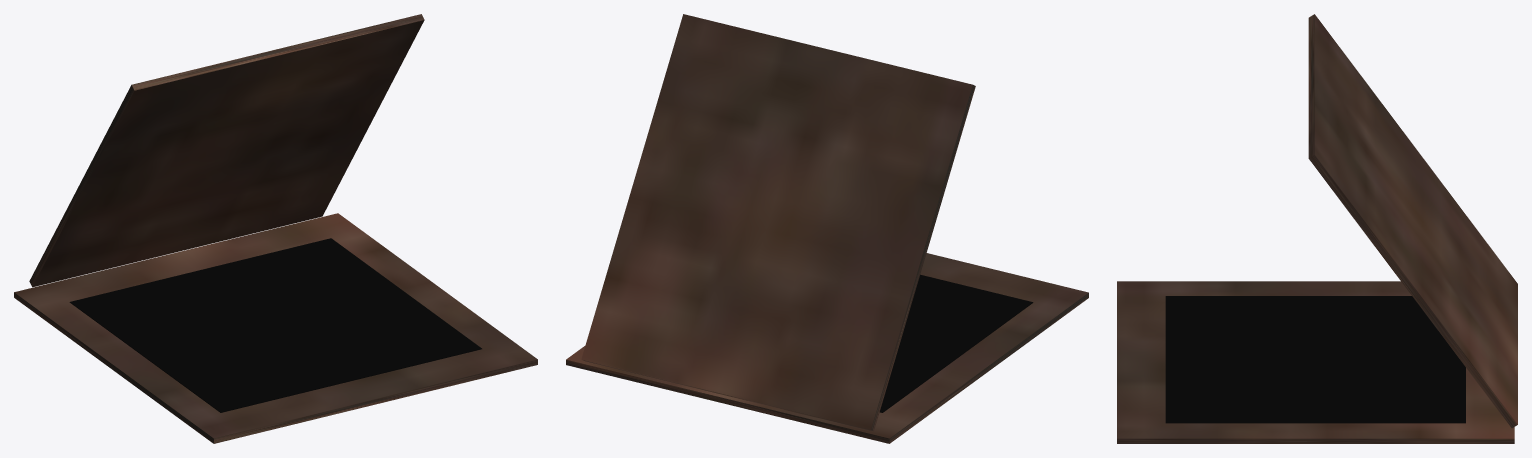
File: alcapao.fbx
The picture shows the model from 3 angles, left to right: view 1: azimuth 30°, elevation 25°; view 2: azimuth 150°, elevation 25°; view 3: azimuth 270°, elevation 25°; orthographic projection.
Parts seen in each view (by area): view 1: Cube.002; view 2: Cube.002; view 3: Cube.002.
Boxes of the visible parts, x1,y1,x2,y2 form: Cube.002: [14, 14, 537, 443]; Cube.002: [566, 14, 1088, 443]; Cube.002: [1117, 14, 1517, 443].
Bounding box in the file's own units: 568 × 475 × 611.
